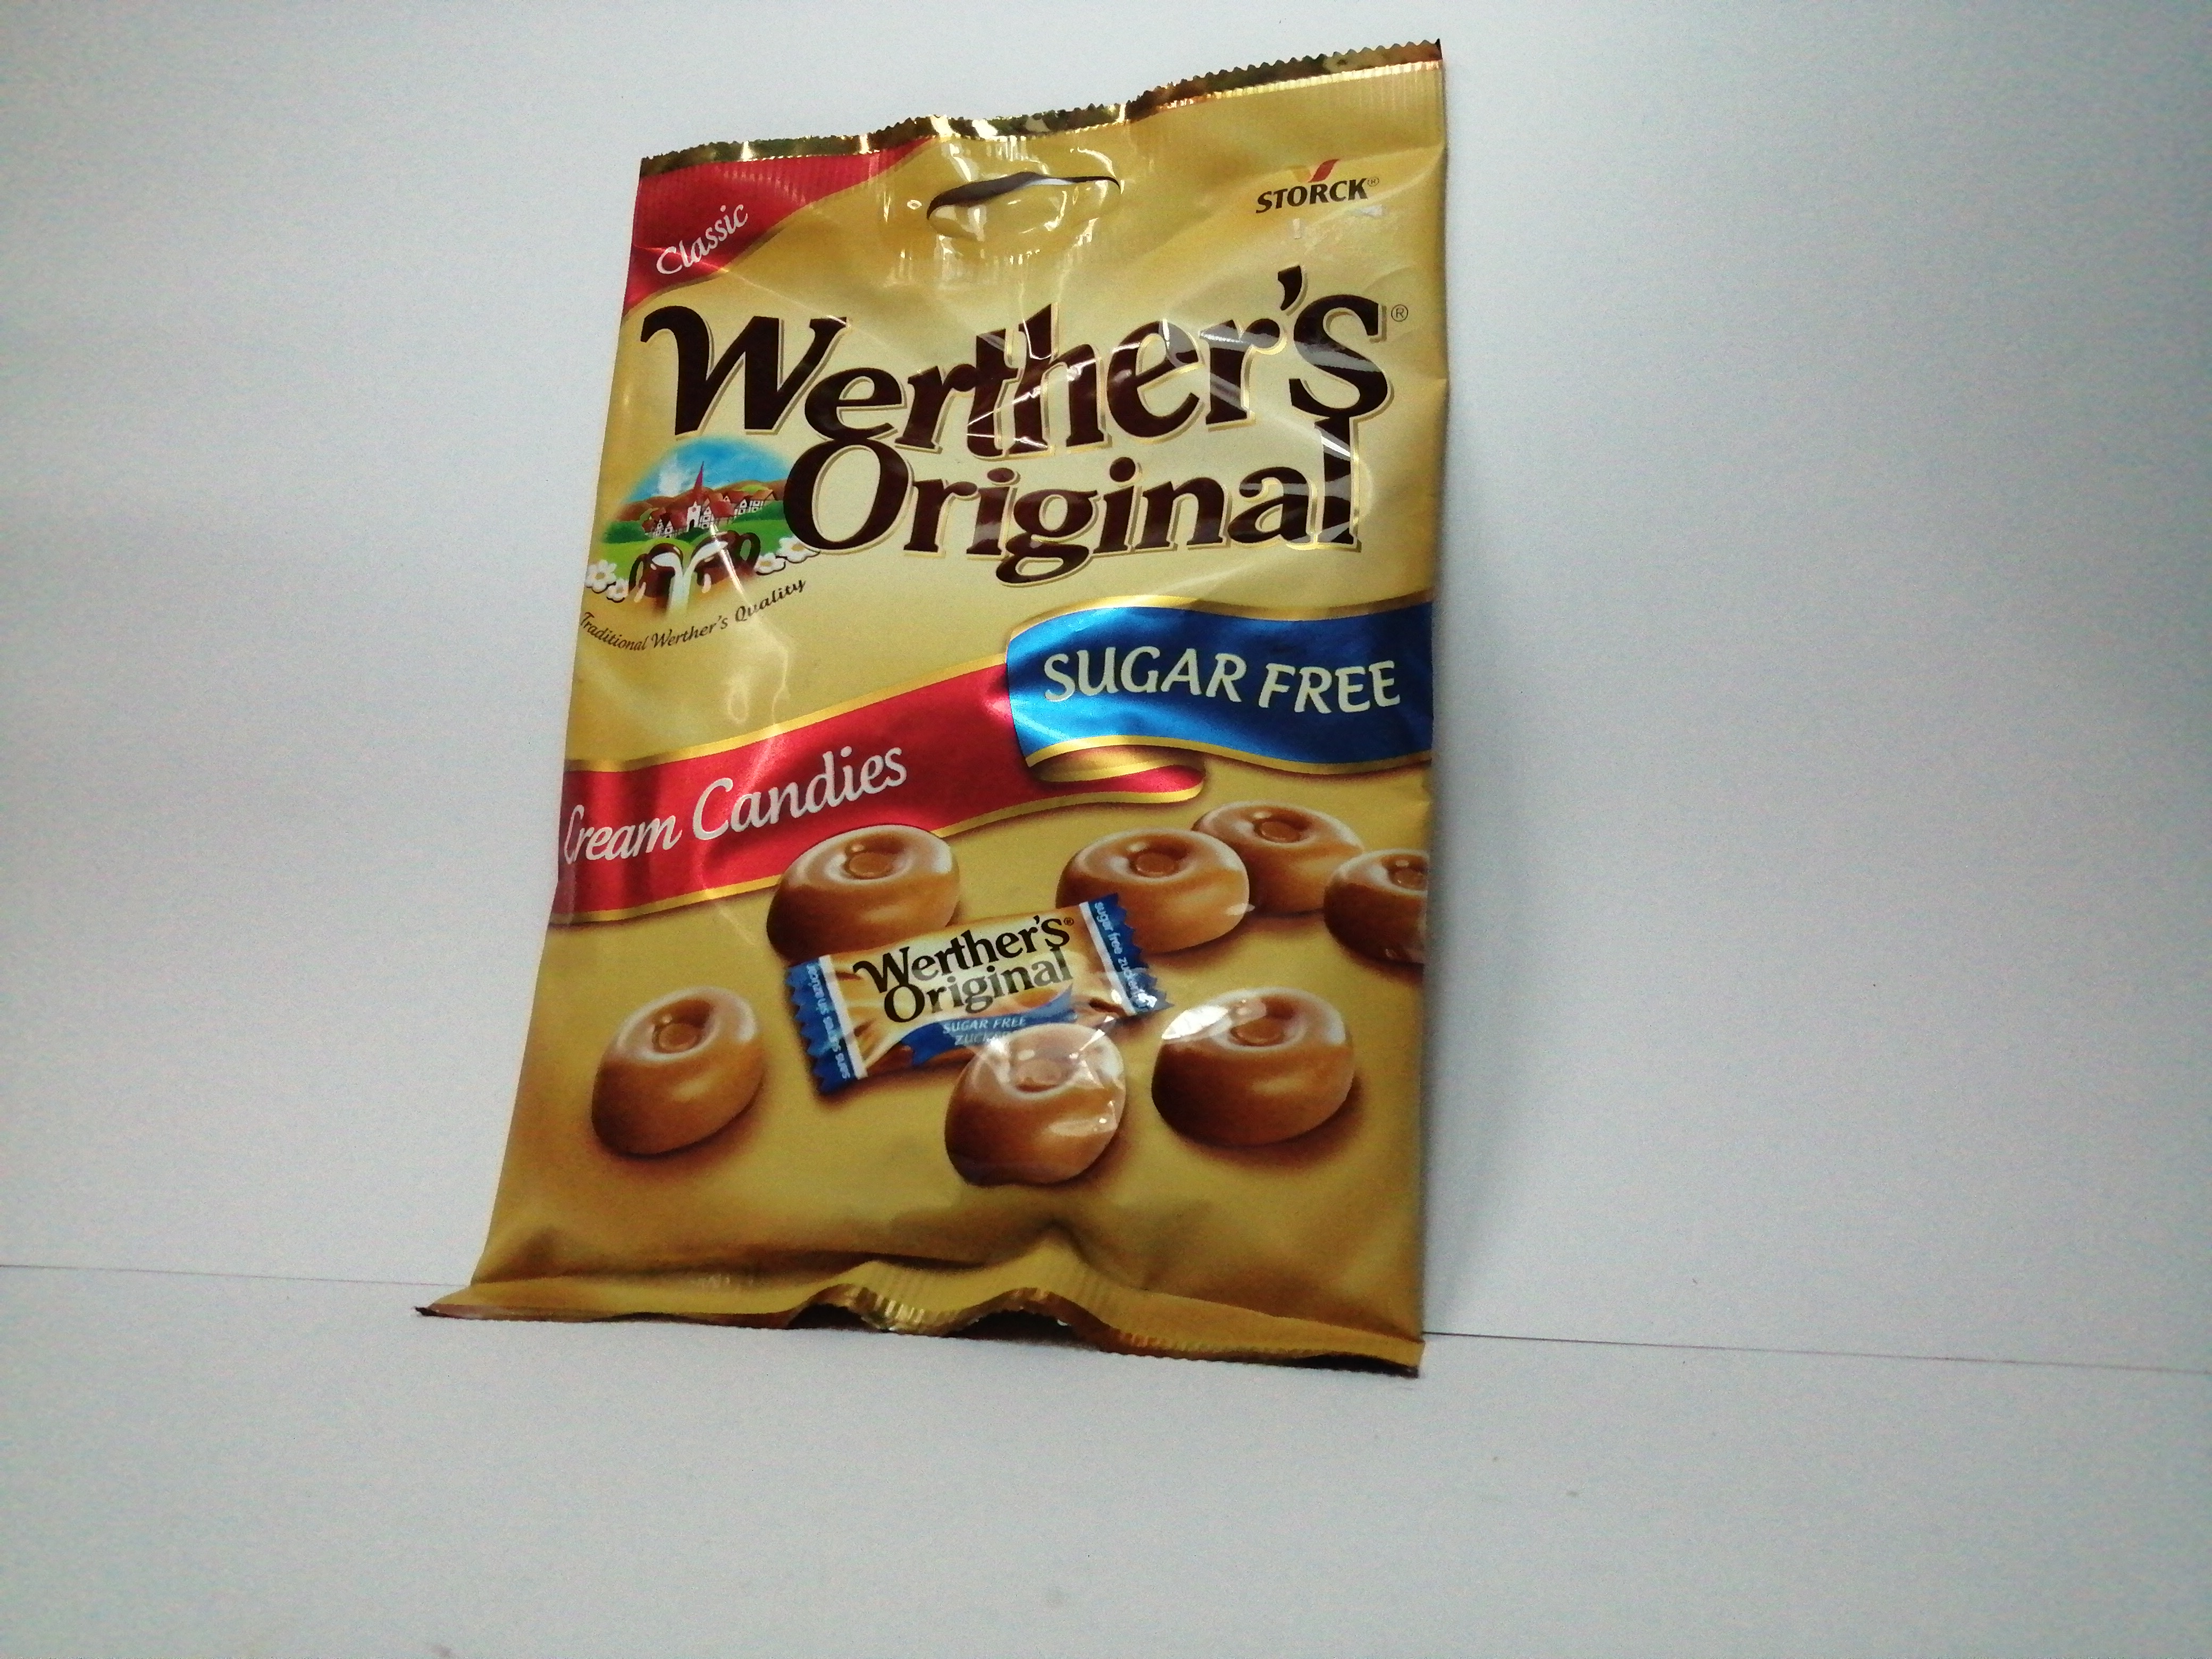dulces: (416, 37, 1442, 1382)
